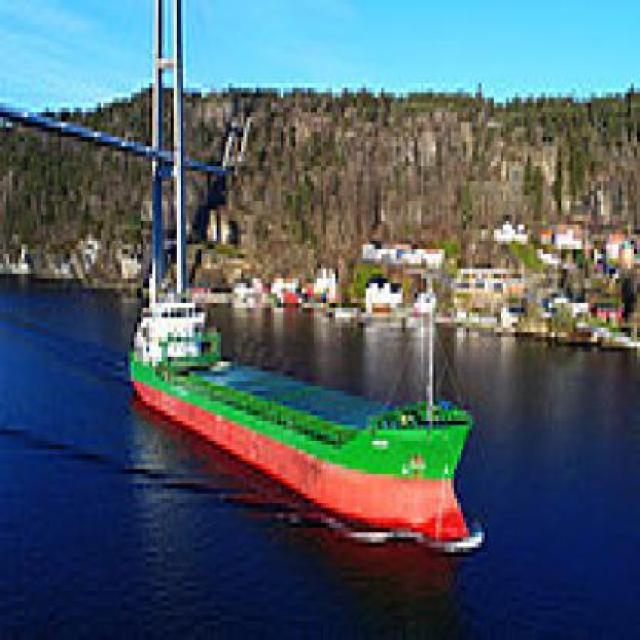container: (113, 255, 507, 573)
